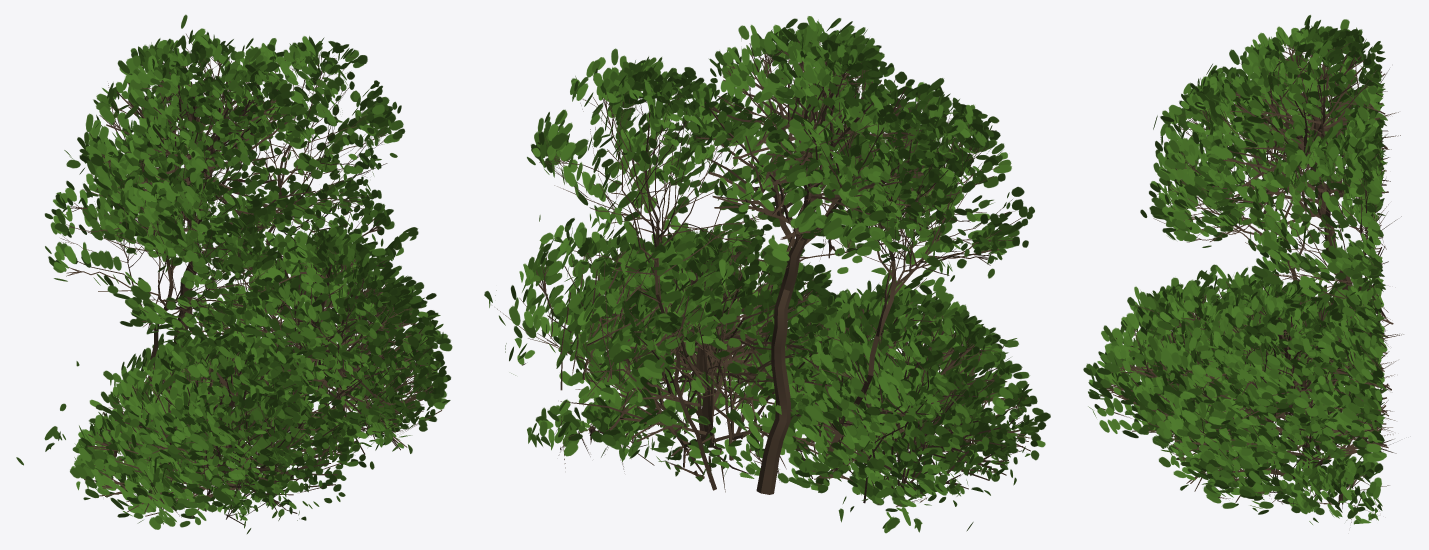
3 views of the same model, side by side, from view 1: azimuth 30°, elevation 25°; view 2: azimuth 150°, elevation 25°; view 3: azimuth 270°, elevation 25° (orthographic). The views are drawn at different scales.
Parts seen in each view (by area): view 1: oak 01.001_trunk_Mat.001_0.444; view 2: oak 01.001_trunk_Mat.001_0.444; view 3: oak 01.001_trunk_Mat.001_0.444.
Part boxes in pixels (x1=…): oak 01.001_trunk_Mat.001_0.444: x1=16, y1=14, x2=452, y2=533; oak 01.001_trunk_Mat.001_0.444: x1=484, y1=16, x2=1050, y2=533; oak 01.001_trunk_Mat.001_0.444: x1=1083, y1=15, x2=1403, y2=524.
Size of the model in its own units: 4.21 by 4.08 by 2.96.
2 materials, 1 textured.
